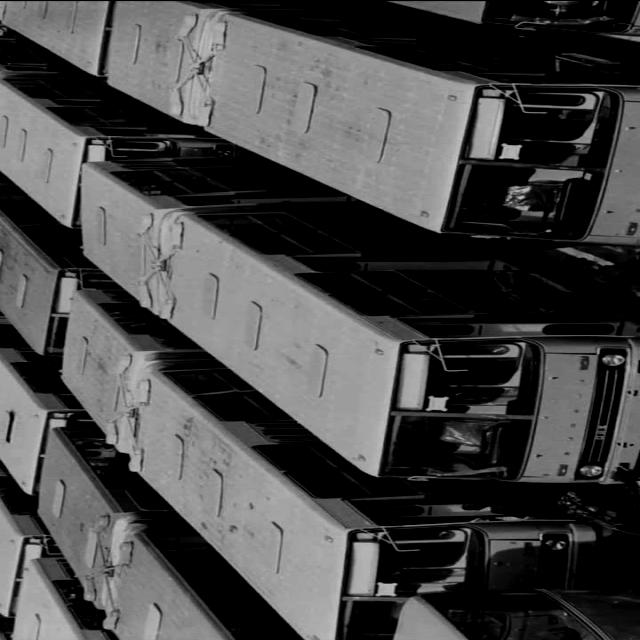bus: (80, 164, 640, 485), (333, 514, 609, 640)
